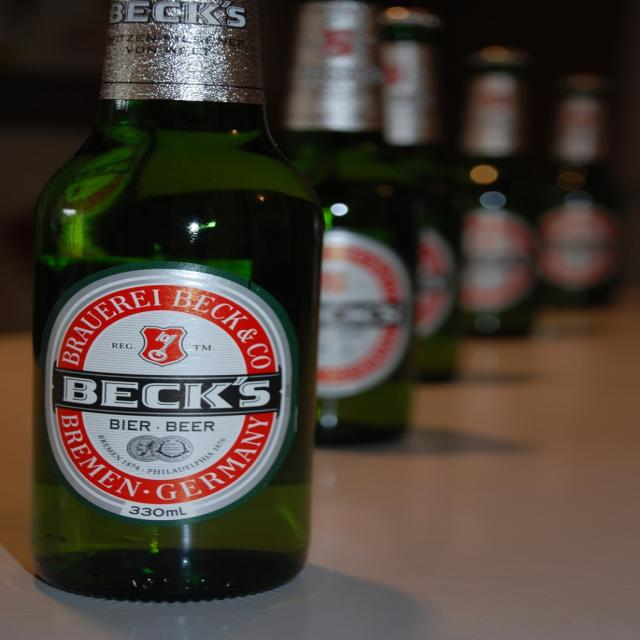becks: (45, 270, 292, 520)
